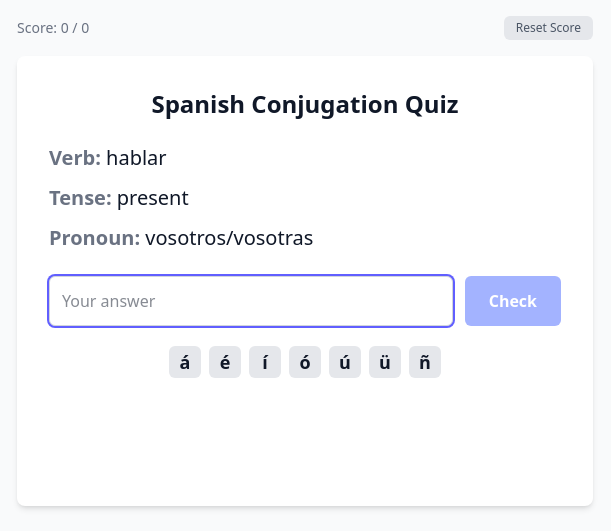
Scenario: Index route › renders the quiz and checks a correct answer
Check: the text "Verb:" is shown, box [49,144,101,171]
Check: the text "hablar" is shown, box [106,144,167,171]
Type "habláis" into the field with placeholder "Your answer" at (251,301), box [49,276,453,326]
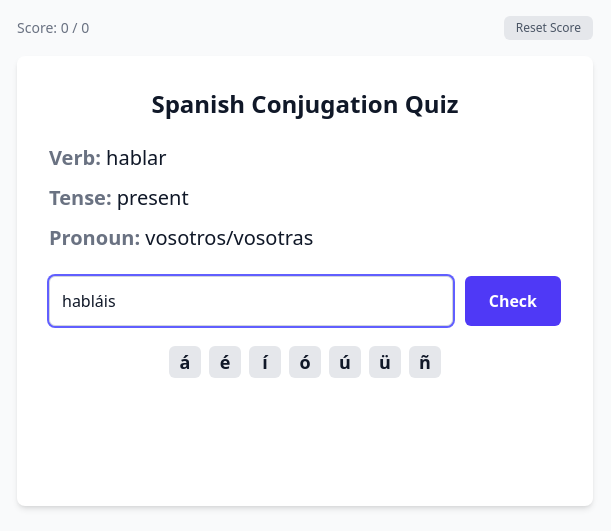
Click the button "Check" at (513,301), box [465,276,561,326]
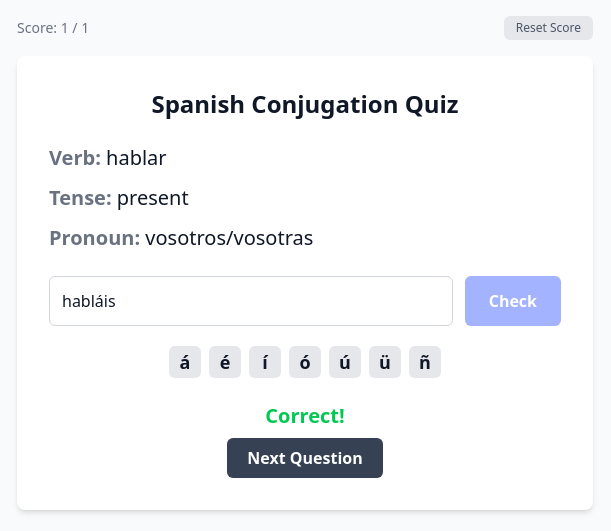
Check: the text "Correct!" is shown, box [265,402,345,429]
Check: the text "Score: 1 / 1" is shown, box [17,18,89,38]
